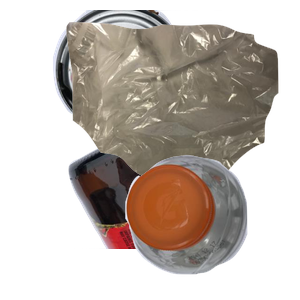glass: (66, 120, 300, 300)
metal: (50, 10, 262, 140)
plastic: (123, 152, 300, 300)
trash: (64, 20, 300, 200)
